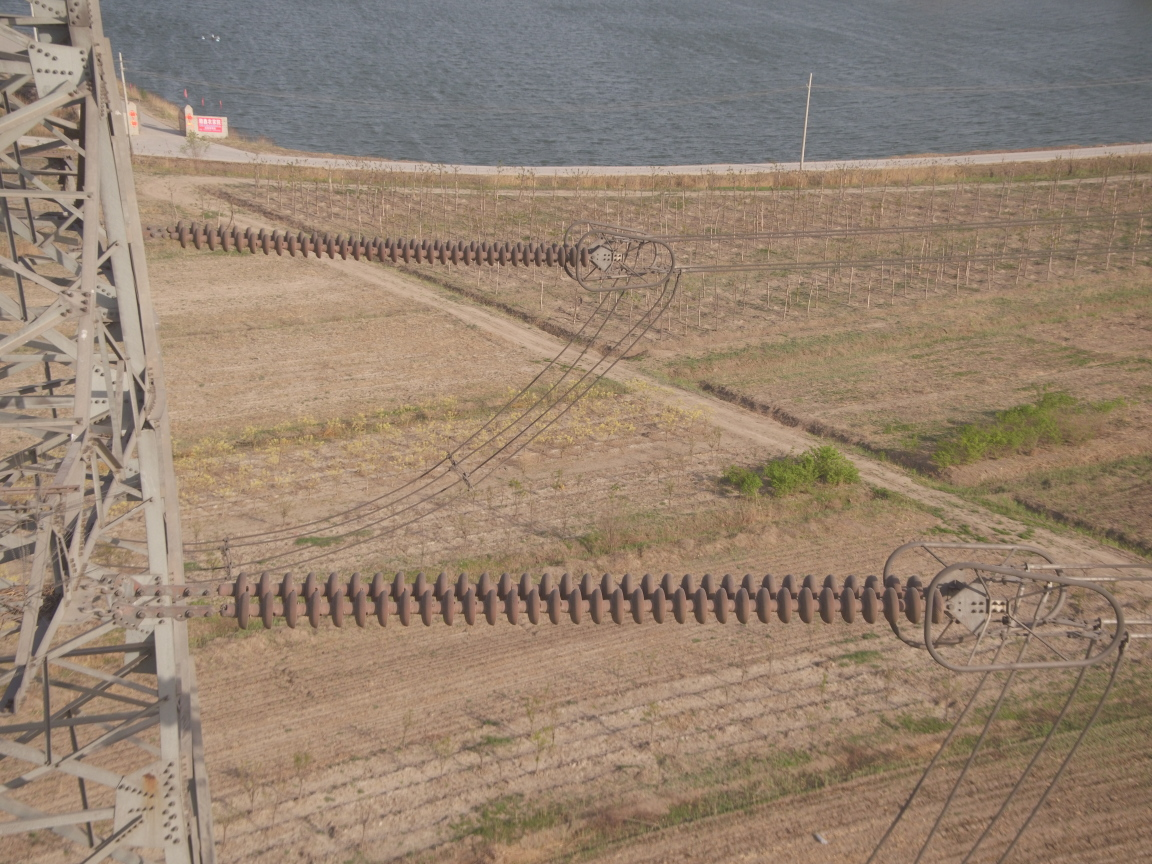insulator: (177, 562, 970, 634), (158, 211, 601, 275)
